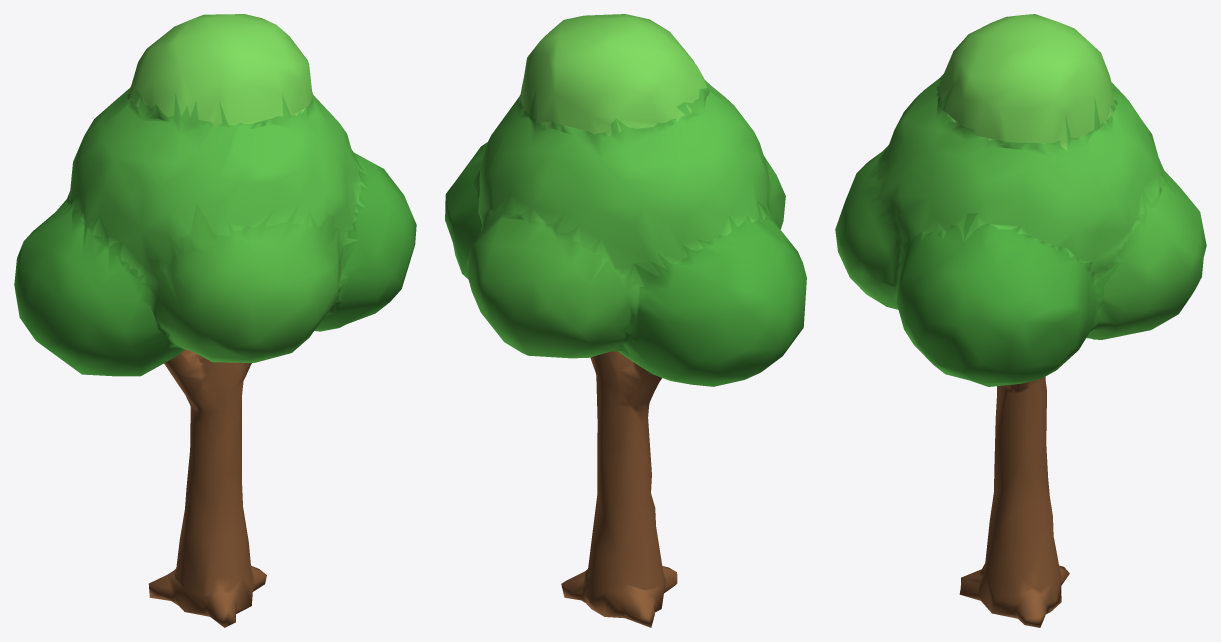
File: prop_tree.glb
The picture shows the model from 3 angles, left to right: view 1: azimuth 30°, elevation 25°; view 2: azimuth 150°, elevation 25°; view 3: azimuth 270°, elevation 25°; orthographic projection.
Visible parts, largest first — view 1: main; view 2: main; view 3: main.
Part boxes in pixels (<box>): main: <box>14,14,416,627</box>; main: <box>445,14,806,627</box>; main: <box>835,14,1206,627</box>.
Size of the model in its own units: 0.651 by 1 by 0.5784.
